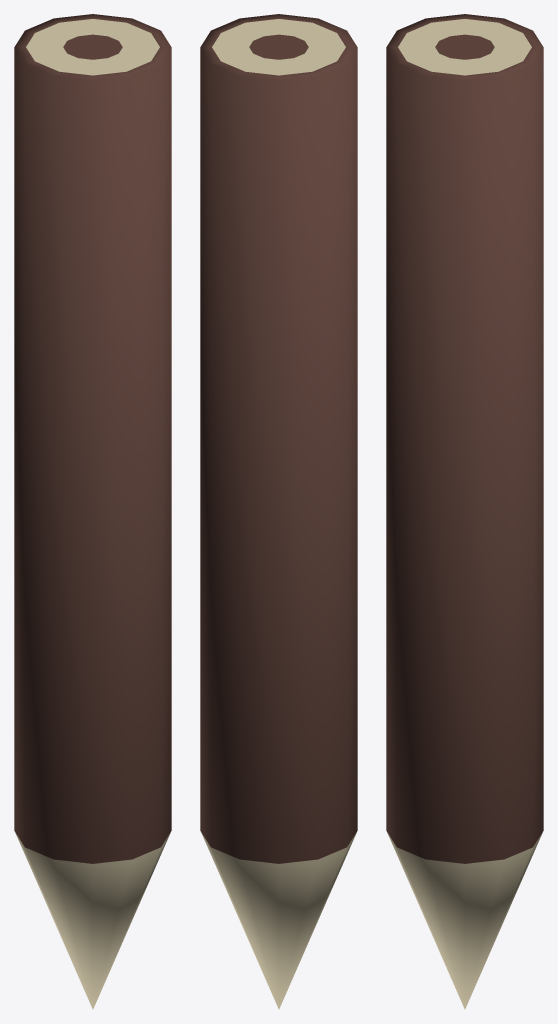
The model's file is Lapis.fbx.
The picture shows the model from 3 angles, left to right: view 1: azimuth 30°, elevation 25°; view 2: azimuth 150°, elevation 25°; view 3: azimuth 270°, elevation 25°; orthographic projection.
Parts seen in each view (by area): view 1: Lapis; view 2: Lapis; view 3: Lapis.
Part boxes in pixels (left/top/right/bottom): Lapis: left=14, top=14, right=171, bottom=1009; Lapis: left=200, top=14, right=357, bottom=1009; Lapis: left=386, top=14, right=543, bottom=1009.
Bounding box in the file's own units: 76.18 × 515 × 76.18.
1 material, 1 textured.
